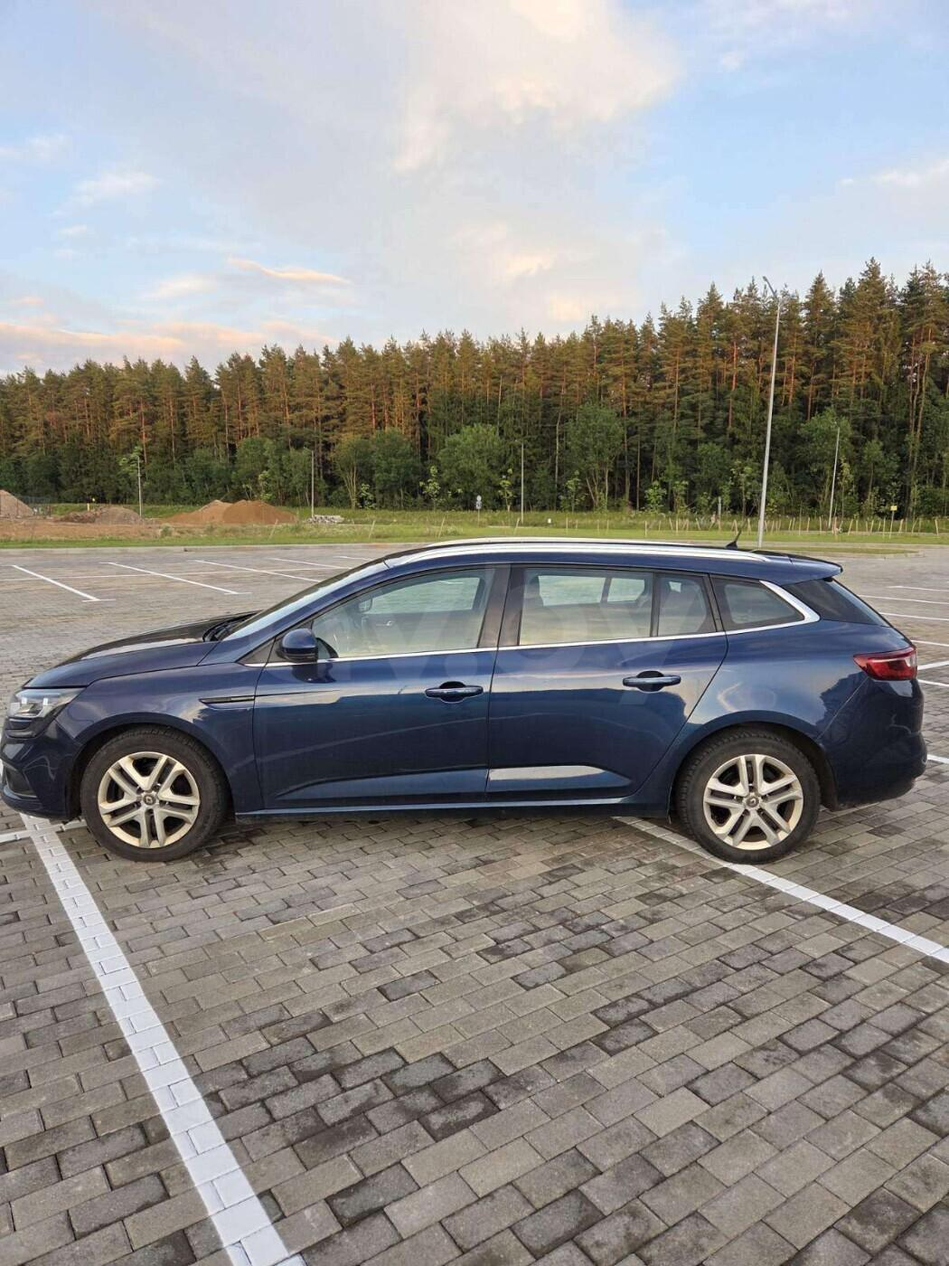Megane_2016-2020: (0, 530, 929, 879)
